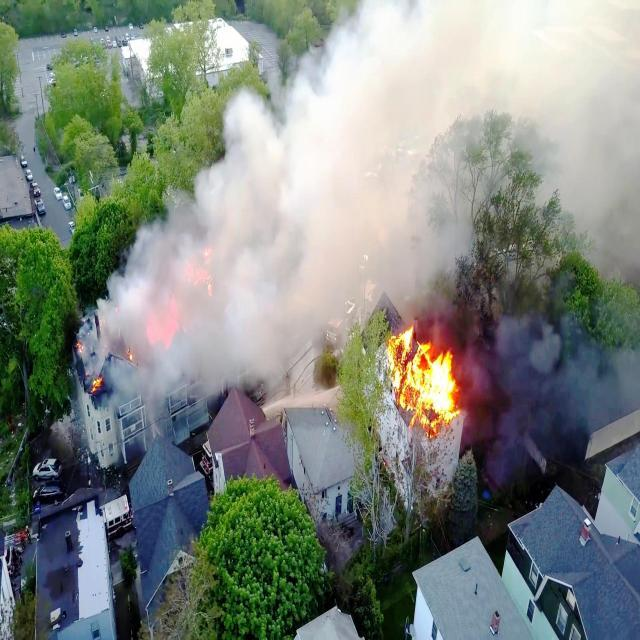Fire: (378, 323, 462, 426)
